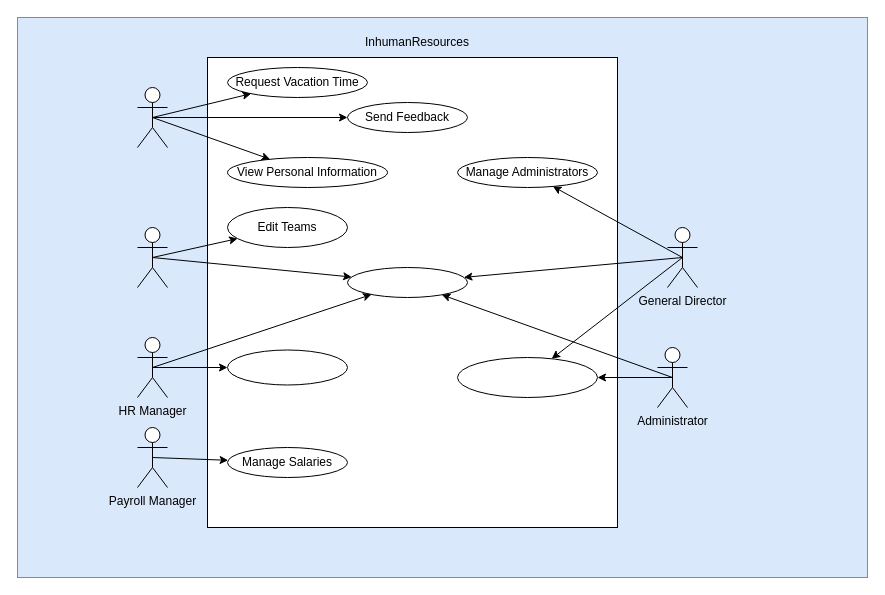
Some shapes in this 885 by 595 pixel diagram are drawn without their labels. The shapes that lost their labels are listed below. From the top down, each one's centre as x and y in pixels, then its label:
point 152,117: Employee
point 152,257: Team Manager
point 407,282: Manage Users
point 287,367: Manage Positions
point 527,377: Send General Announcements
